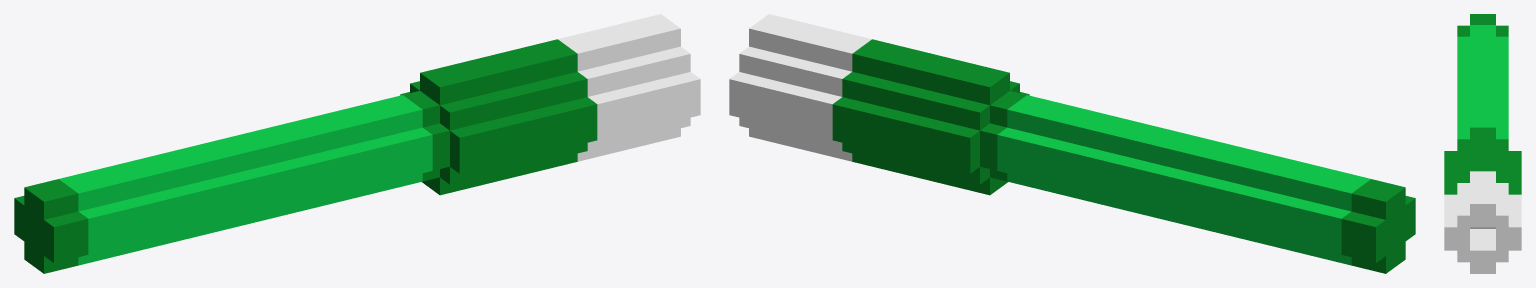
The model's file is Right.vox.obj.
The picture shows the model from 3 angles, left to right: view 1: azimuth 30°, elevation 25°; view 2: azimuth 150°, elevation 25°; view 3: azimuth 270°, elevation 25°; orthographic projection. The views are drawn at different scales.
Size of the model in its own units: 3.7 by 0.6 by 0.6.
Materials: 1 (1 with a texture image).
